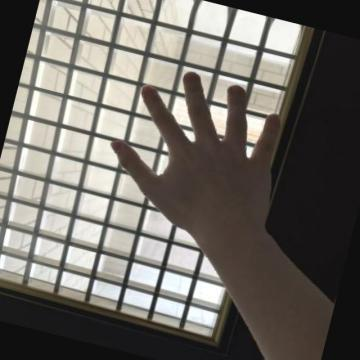hand: (109, 72, 283, 235)
